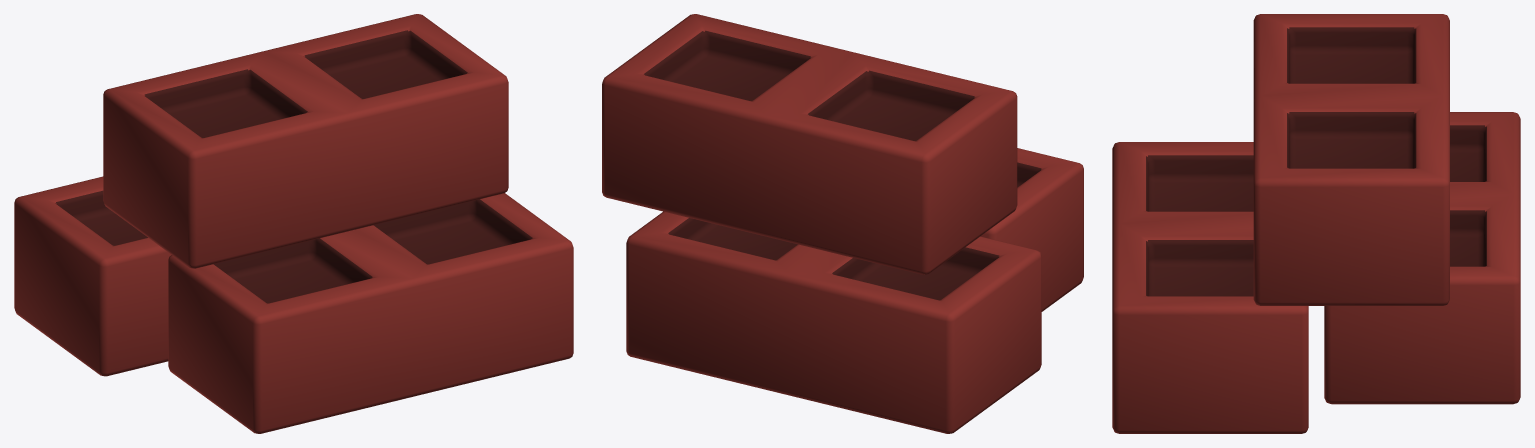
File: Stone.fbx
The picture shows the model from 3 angles, left to right: view 1: azimuth 30°, elevation 25°; view 2: azimuth 150°, elevation 25°; view 3: azimuth 270°, elevation 25°; orthographic projection. The views are drawn at different scales.
Parts seen in each view (by area): view 1: brick, brick.002, brick.001; view 2: brick, brick.001, brick.002; view 3: brick, brick.002, brick.001.
Part boxes in pixels (left/top/right/bottom): brick: left=103, top=14, right=508, bottom=268; brick.002: left=168, top=193, right=573, bottom=433; brick.001: left=14, top=176, right=171, bottom=376; brick: left=602, top=14, right=1017, bottom=274; brick.001: left=626, top=211, right=1041, bottom=433; brick.002: left=980, top=148, right=1083, bottom=311; brick: left=1253, top=14, right=1449, bottom=305; brick.002: left=1112, top=142, right=1308, bottom=433; brick.001: left=1324, top=112, right=1520, bottom=404.
Size of the model in its own units: 653 by 390 by 564.
